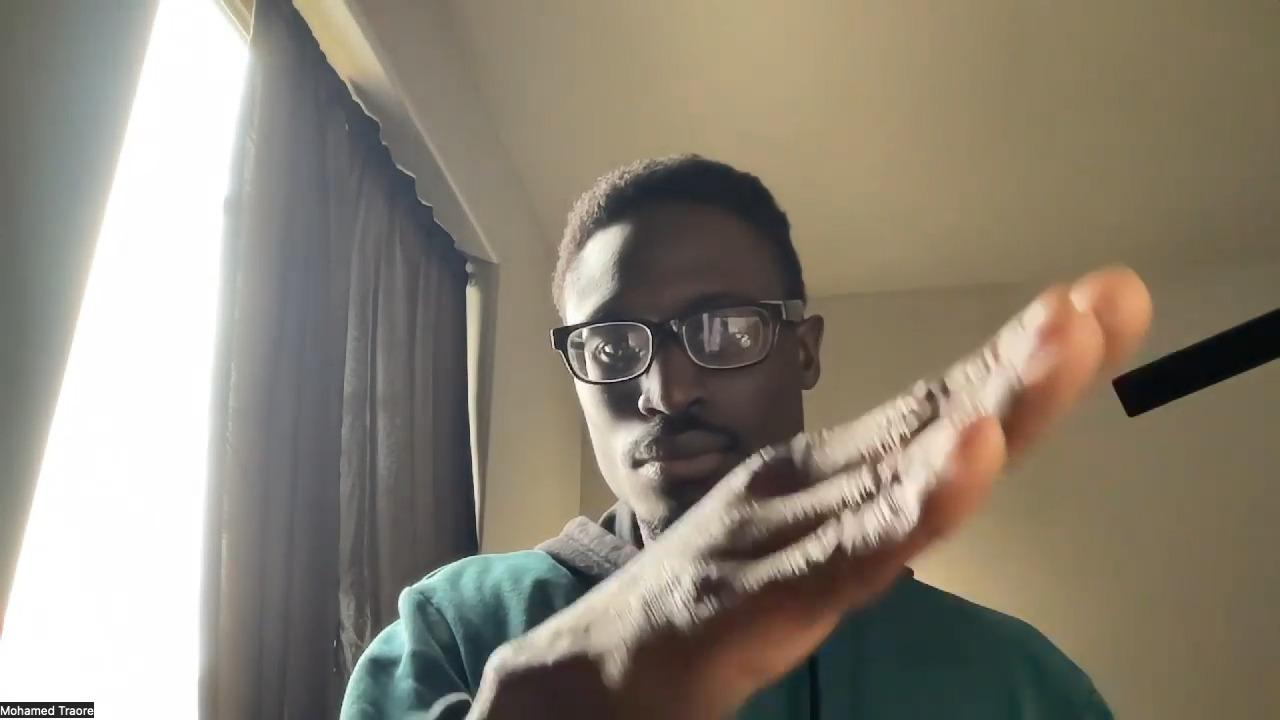Paper: (498, 265, 1150, 720)
